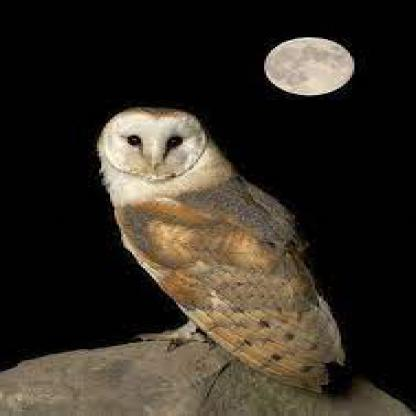owl: (42, 81, 414, 414)
